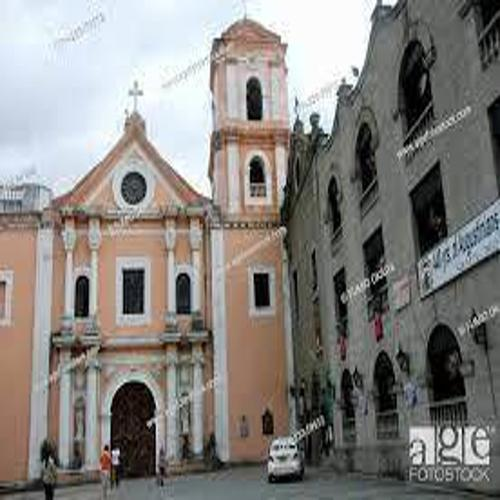San Agustin Church: (38, 9, 299, 470)
